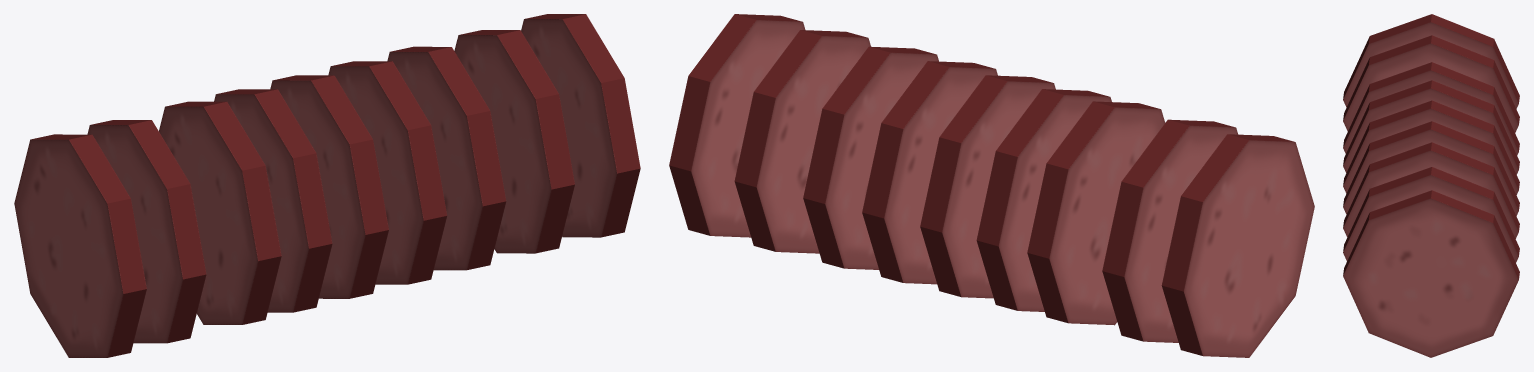
File: salchicha cortada.fbx
3 renders of one model, left to right at view 1: azimuth 30°, elevation 25°; view 2: azimuth 150°, elevation 25°; view 3: azimuth 270°, elevation 25°, orthographic. The views are drawn at different scales.
Visible parts, largest first — view 1: polySurface27; view 2: polySurface27; view 3: polySurface27.
Part boxes in pixels (<box>): polySurface27: <box>14,14,640,357</box>; polySurface27: <box>669,14,1314,357</box>; polySurface27: <box>1343,14,1519,357</box>.
Bounding box in the file's own units: 142 × 55.96 × 56.21.
Materials: 1 (1 with a texture image).
